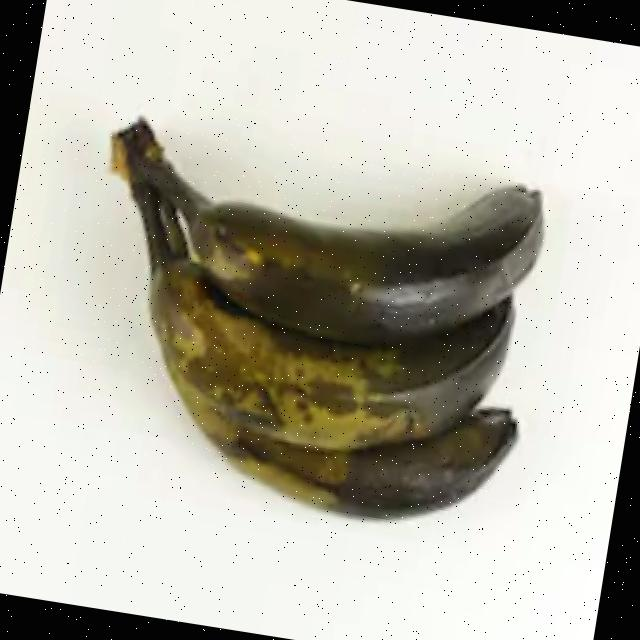rotten banana: (49, 86, 614, 608)
